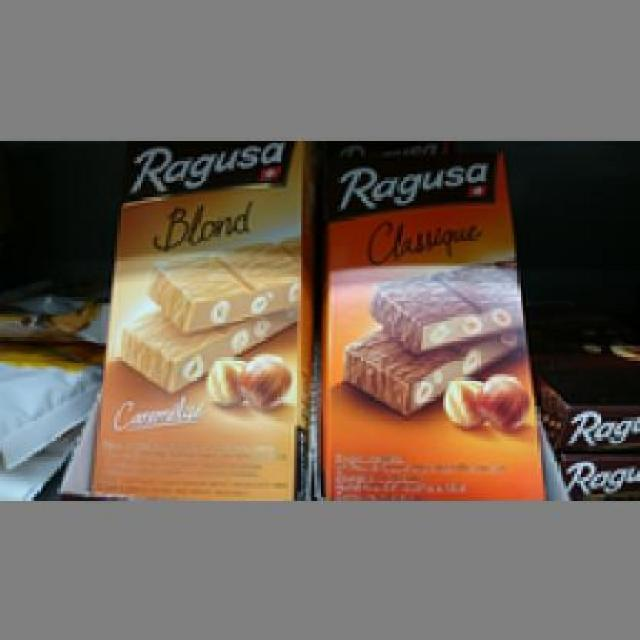Chocolate: (323, 140, 546, 497), (97, 142, 314, 492)
